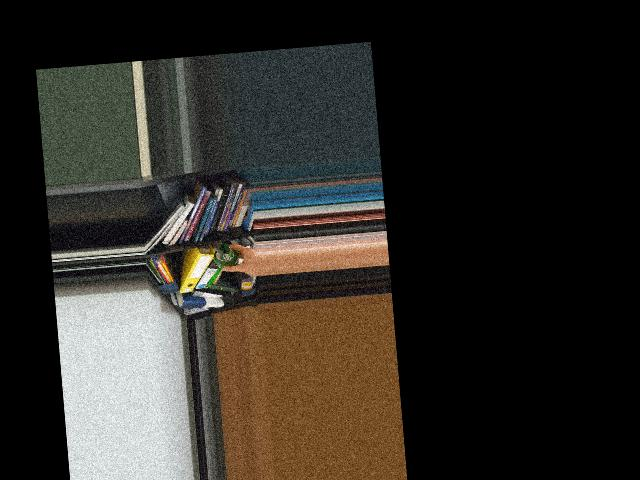beer: (212, 243, 238, 270)
